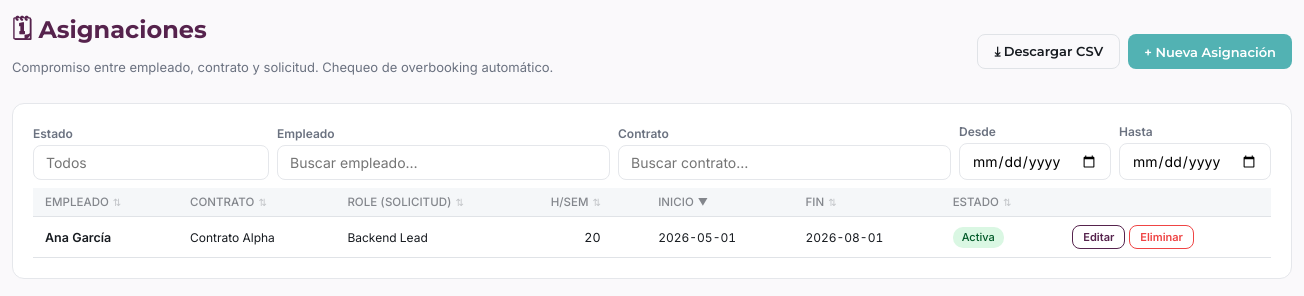
Scenario: SPEC-008: filtro por contrato — ContractMultiSelect › filters dropdown options by typed query
Expected: the text "Ana García" is shown, [33,216,178,258]
Type "Beta" into the field named "Filtro por contrato" at (784, 162), box [618,145,951,180]
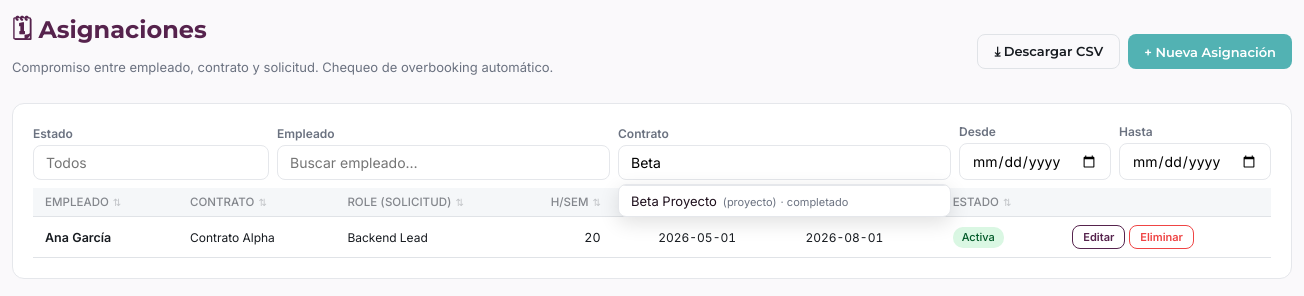
Now the option "Beta Proyecto(proyecto)· completado" is shown, box [619,185,950,216]
Now the option "Acme MSA 2026" is gone
